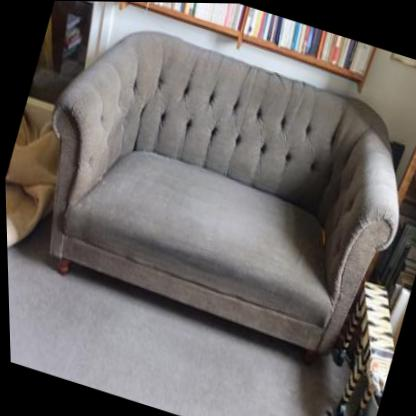Sofa: (0, 7, 416, 375)
